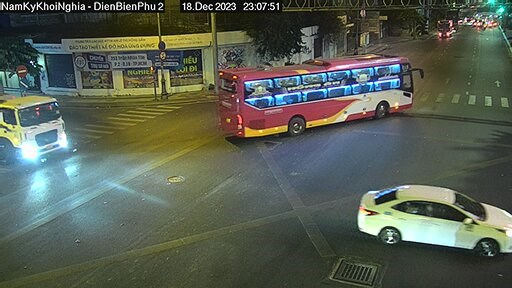bus: (213, 52, 423, 140)
car: (354, 165, 512, 264)
truck: (1, 85, 71, 167)
